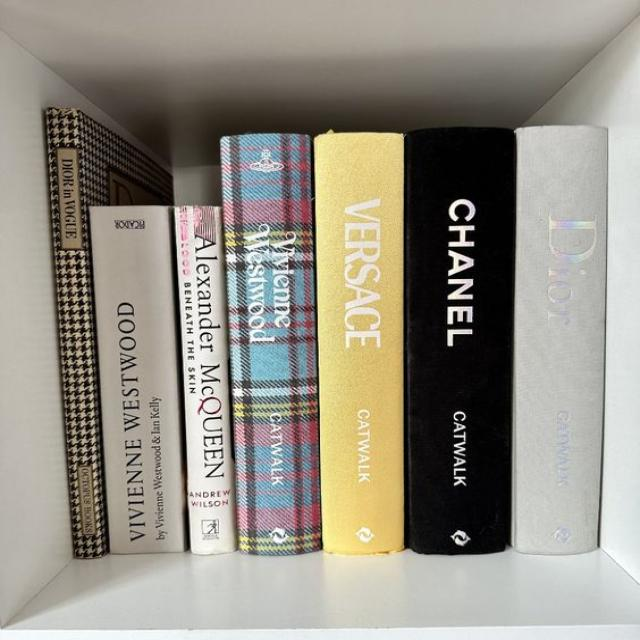book: (404, 128, 514, 554), (221, 134, 321, 554), (512, 126, 607, 554), (314, 131, 403, 555), (91, 205, 185, 551), (42, 107, 103, 559), (176, 205, 235, 553)
